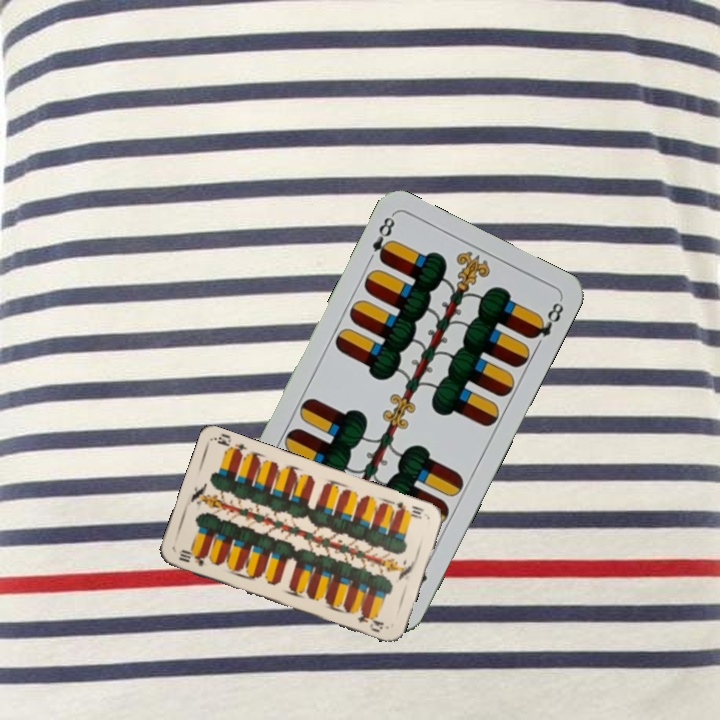E10: (175, 545, 213, 569), (392, 498, 427, 522)
E8: (367, 211, 398, 266)
